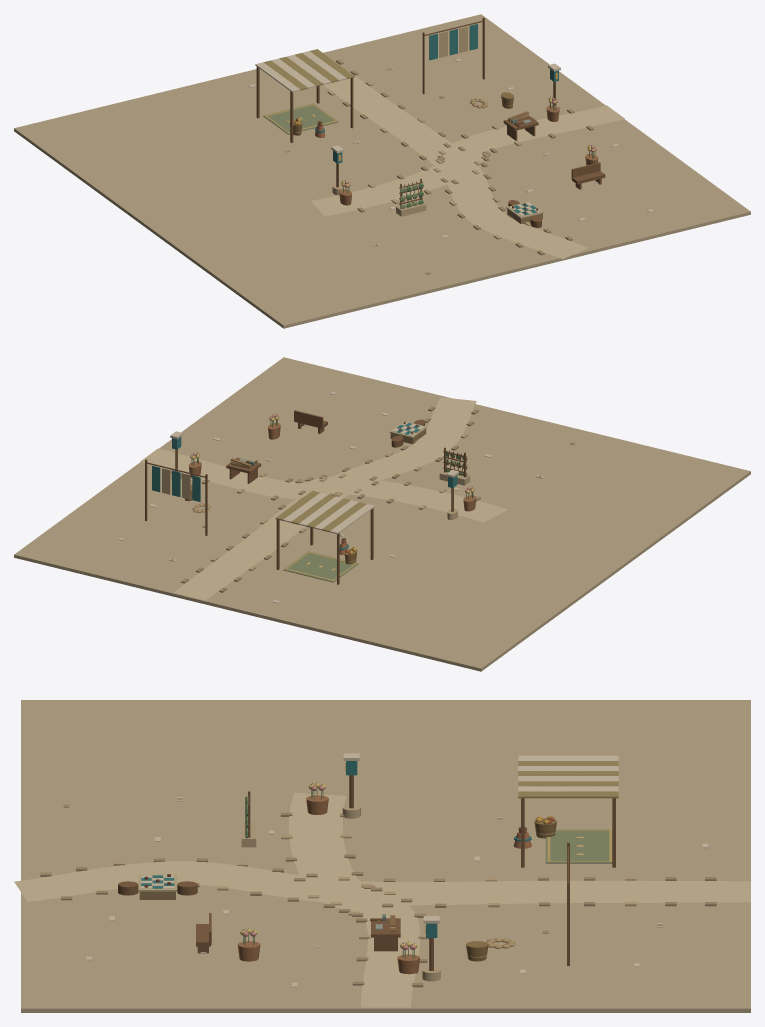
File: city-lane-2.glb
3 views of the same model, one above another, from view 1: azimuth 30°, elevation 25°; view 2: azimuth 150°, elevation 25°; view 3: azimuth 270°, elevation 25° (orthographic). The views are drawn at different scales.
Visible parts, largest first — view 1: city-lane-2; view 2: city-lane-2; view 3: city-lane-2.
Boxes of the visible parts, <box> form: city-lane-2: <box>14,14,750,328</box>; city-lane-2: <box>14,357,750,671</box>; city-lane-2: <box>14,700,750,1012</box>.
Size of the model in its own units: 32 by 4.22 by 32.3.
